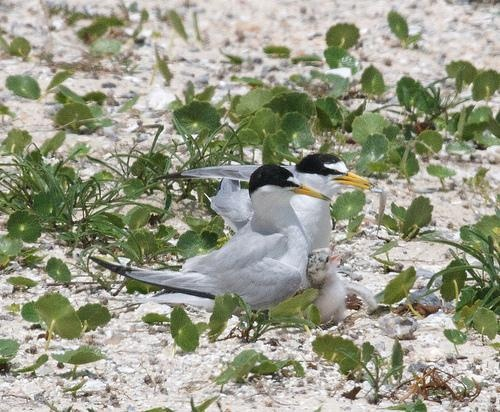bird: (137, 166, 333, 314)
